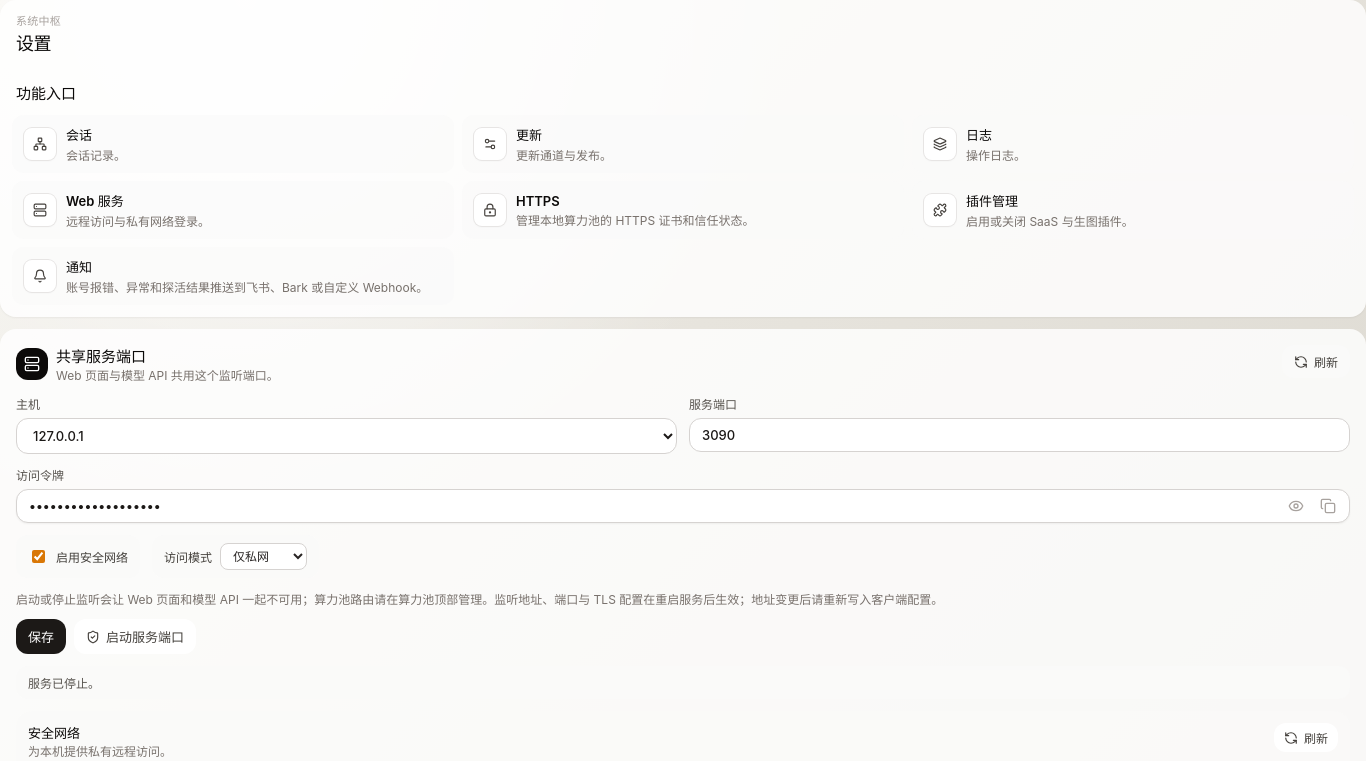
Scenario: SettingsScreen › opens the HTTPS settings section and enables the local route proxy
This screenshot has width=1366, height=761.
Click the button "HTTPS 管理本地算力池的 HTTPS 证书和信任状态。" at coordinates (683, 210), box [462,181,904,239]
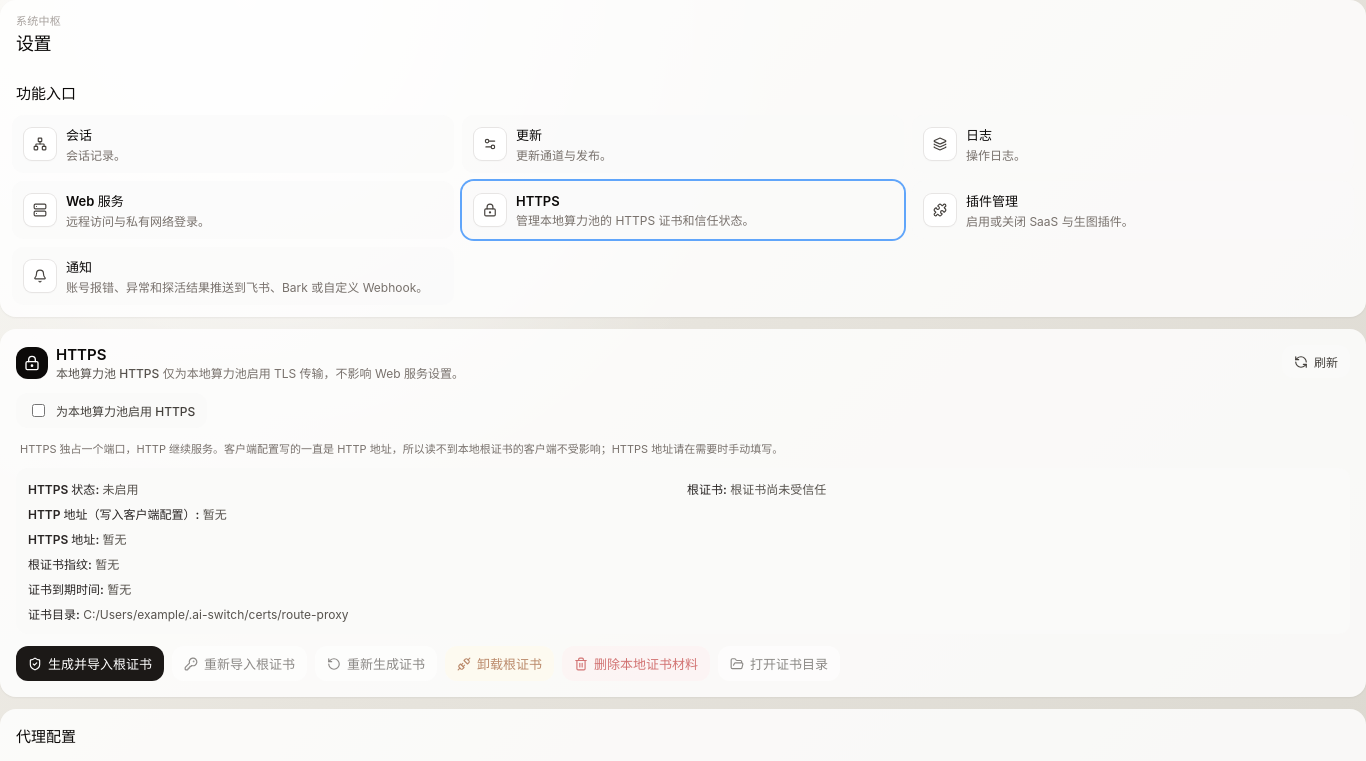
Expected: the heading "HTTPS" is shown, [56,345,106,364]
Expected: the text "本地算力池 HTTPS" is shown, [56,366,159,381]
Click the checkbox labelled "为本地算力池启用 HTTPS" at coordinates (38, 410), box [32,404,45,417]
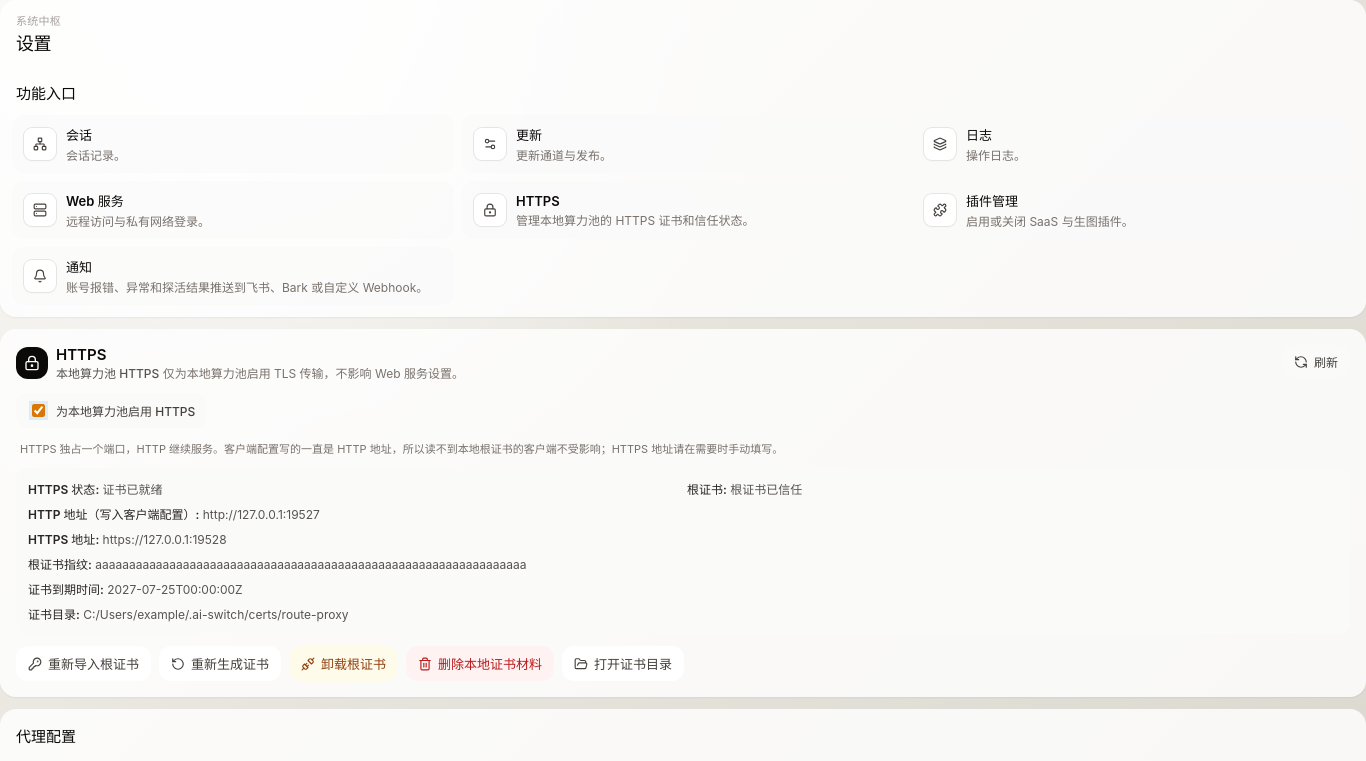
Expected: the text "https://127.0.0.1:19528" is shown, [103,532,227,547]
Expected: the text "http://127.0.0.1:19527" is shown, [203,507,320,522]
